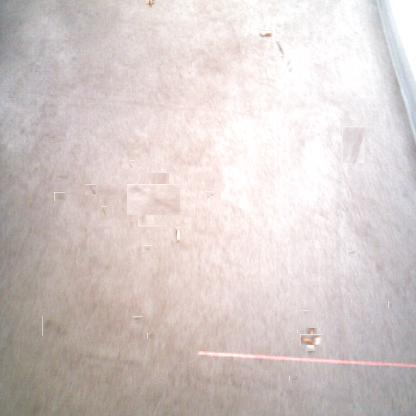dirty: (303, 331, 320, 348), (259, 30, 272, 38), (174, 227, 180, 242), (146, 0, 153, 6)
mark: (132, 179, 175, 221), (342, 126, 365, 163), (42, 316, 67, 336), (275, 40, 284, 56), (284, 58, 293, 73), (85, 184, 96, 196), (55, 191, 64, 202), (54, 174, 68, 180), (143, 245, 152, 253), (101, 206, 107, 217), (135, 315, 142, 323), (148, 333, 156, 340), (348, 250, 356, 257), (206, 190, 213, 197), (302, 309, 309, 316), (290, 375, 297, 382), (130, 160, 135, 169), (299, 328, 305, 335), (388, 300, 393, 308)
